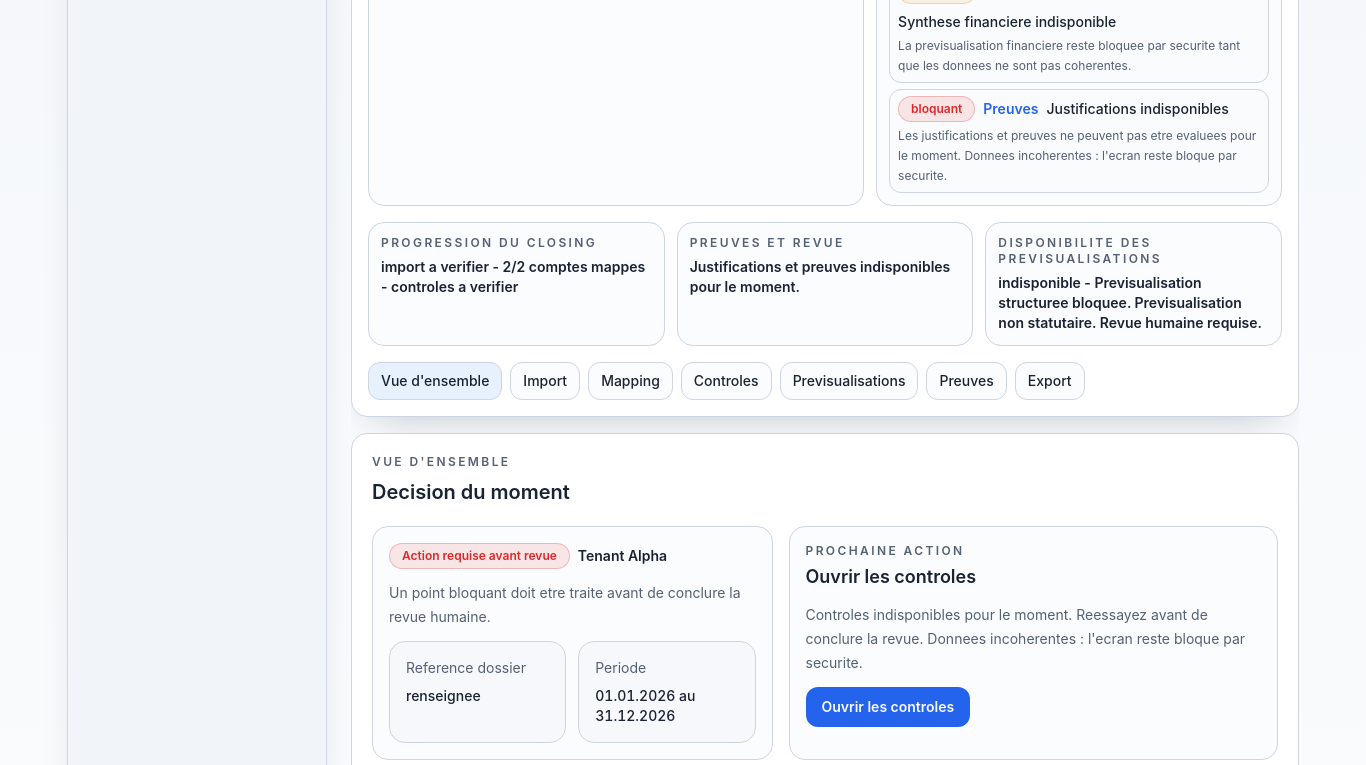
Scenario: router financial summary › renders the exact synthese financiere error state 'synthese financiere indisponible' and keeps the existing blocks visible
(page scrolled)
Click the tab "Previsualisations" at (849, 381), box [780, 362, 918, 400]
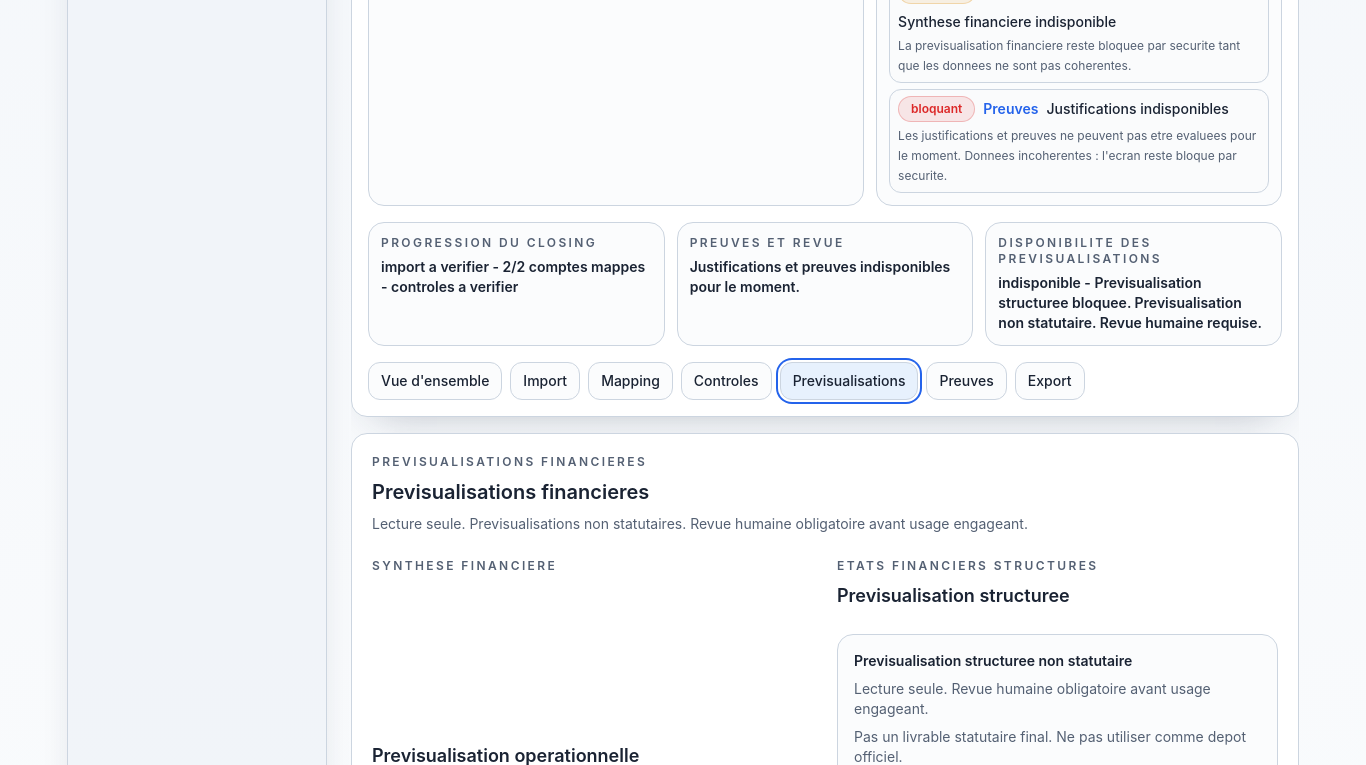
Check: the text "Synthese financiere" is shown, box [372, 558, 557, 573]
Check: the text "Etats financiers structures" is shown, box [837, 558, 1098, 573]
